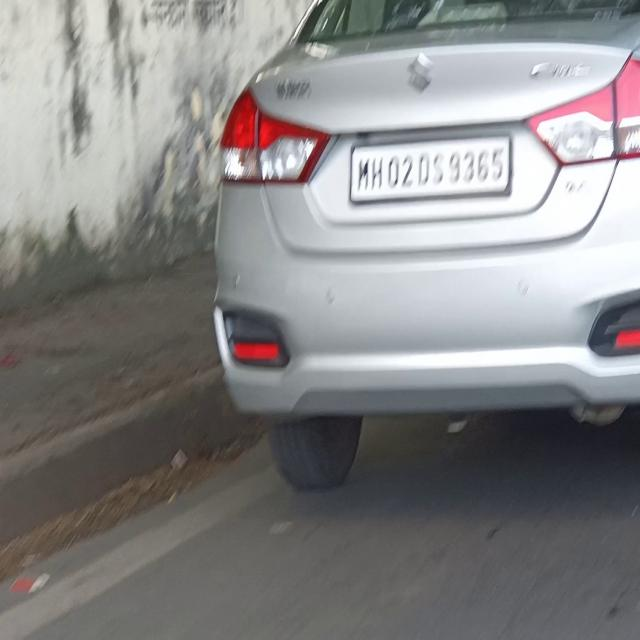Plate: (351, 138, 510, 203)
